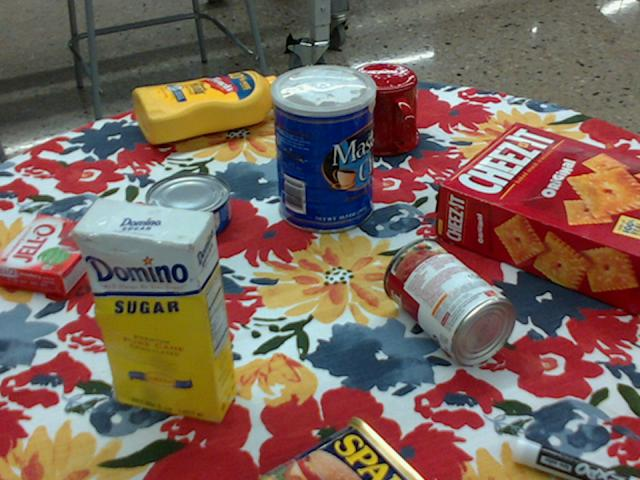cracker_box: (435, 122, 639, 316)
gelatin_box: (0, 216, 108, 298)
large_marker: (514, 435, 639, 479)
master_chef_can: (271, 64, 376, 234)
mug: (342, 63, 420, 157)
mustard_bottle: (130, 71, 292, 143)
potted_meat_can: (258, 416, 428, 479)
sugar_box: (70, 196, 238, 423)
tomato_soup_can: (384, 238, 518, 365)
tuna_fish_can: (143, 173, 229, 242)
